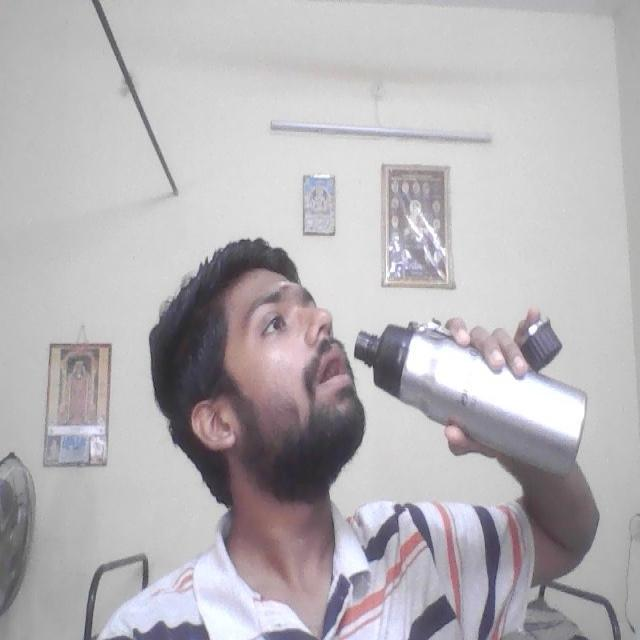Drinking: (350, 309, 596, 488)
